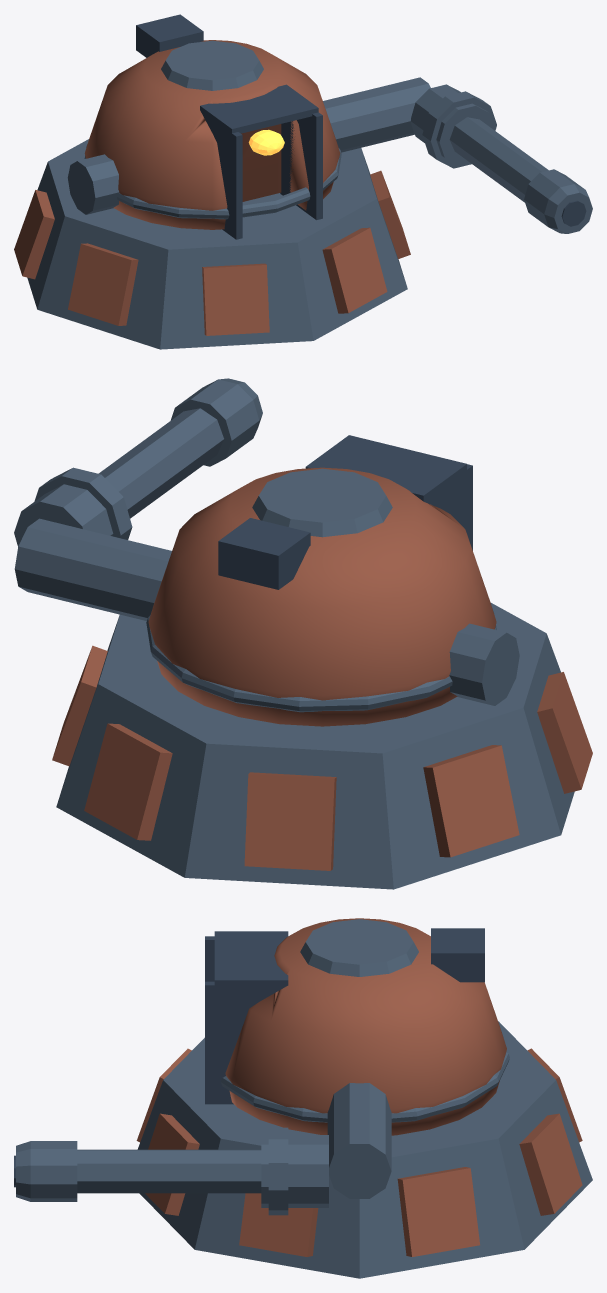
Rendered from turret.glb.
3 views of the same model, one above another, from view 1: azimuth 30°, elevation 25°; view 2: azimuth 150°, elevation 25°; view 3: azimuth 270°, elevation 25° (orthographic). The views are drawn at different scales.
Visible parts, largest first — view 1: base, dome, base_armor, trim, barrel_visual, port_plate, eye, bore; view 2: base, dome, base_armor, trim, barrel_visual, port_plate; view 3: base, dome, barrel_visual, base_armor, trim, port_plate.
Boxes of the visible parts, box(x1,y1,x2,y2) form: base: box(27, 139, 407, 349); dome: box(84, 40, 340, 229); base_armor: box(14, 170, 410, 335); trim: box(67, 40, 430, 219); barrel_visual: box(410, 84, 592, 233); port_plate: box(136, 14, 322, 239); eye: box(248, 129, 284, 155); bore: box(561, 200, 586, 226); base: box(56, 603, 574, 889); dome: box(148, 467, 496, 726); base_armor: box(52, 645, 592, 870); trim: box(14, 468, 519, 712); barrel_visual: box(14, 378, 262, 546); port_plate: box(218, 435, 472, 589); base: box(137, 1021, 592, 1278); dome: box(225, 918, 506, 1135); barrel_visual: box(16, 1127, 328, 1215); base_armor: box(136, 1048, 582, 1256); trim: box(221, 919, 509, 1198); port_plate: box(205, 928, 484, 1104).
Bounding box in the file's own units: 4.56 × 2.15 × 4.72.
